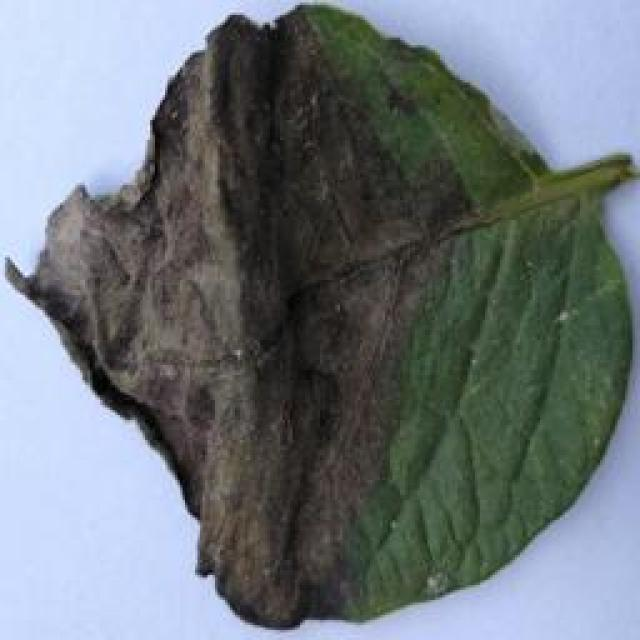Potato_Late_Blight: (8, 7, 637, 634)
